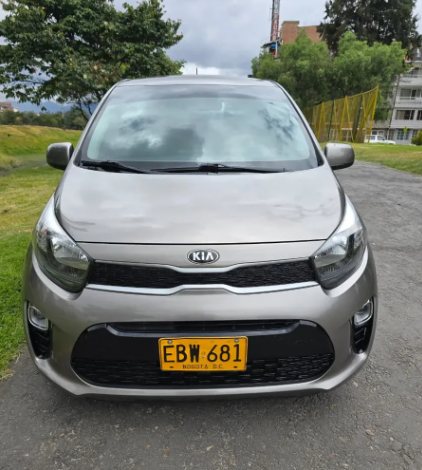placa: (157, 336, 250, 372)
